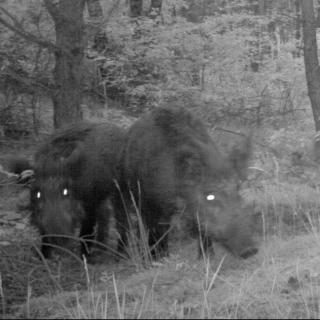Pig: (107, 100, 272, 269)
